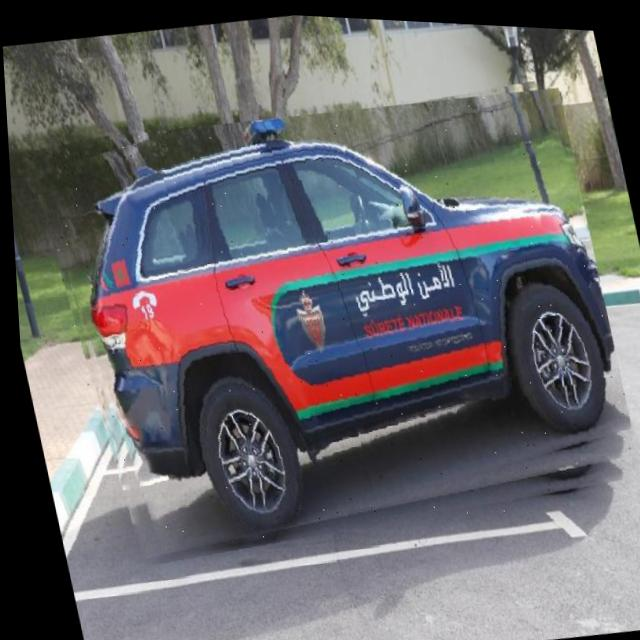Police car: (45, 58, 640, 566)
